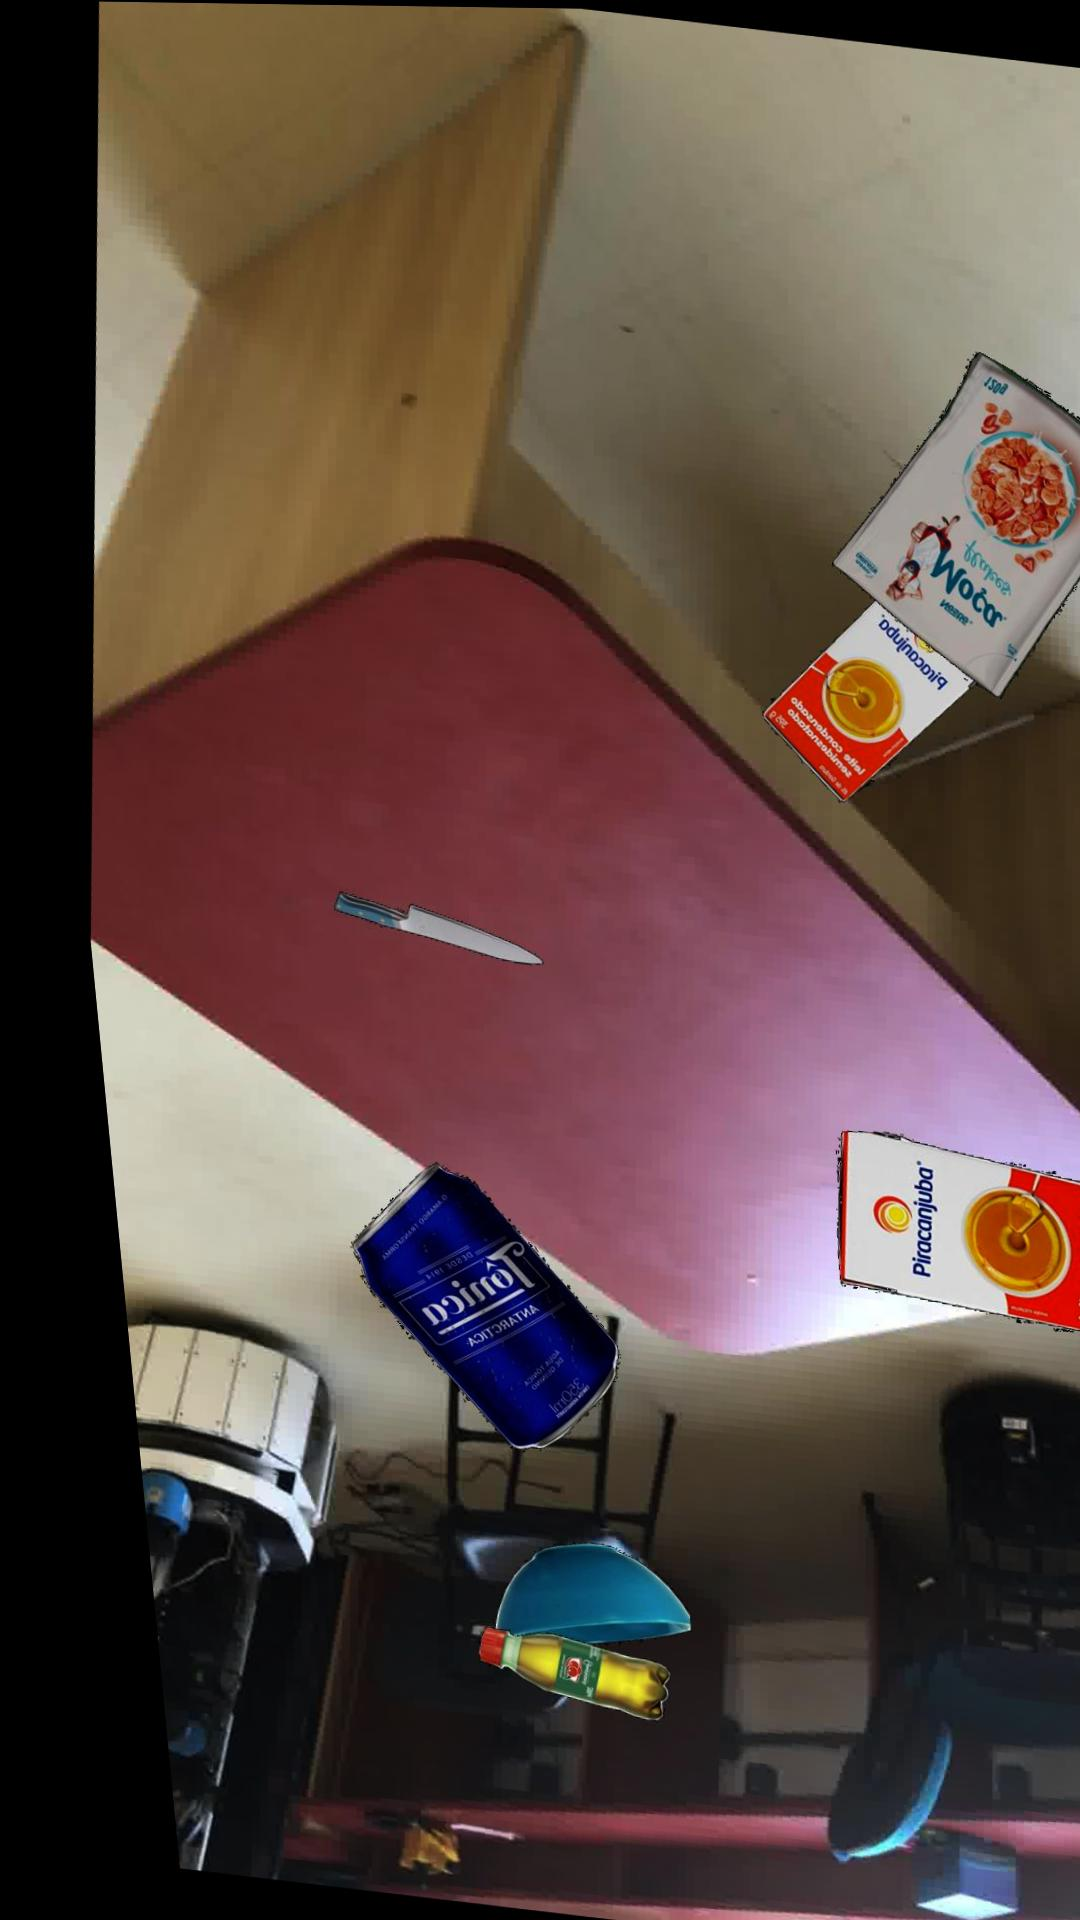bowl: (463, 1542, 659, 1644)
corn flakes: (822, 349, 1080, 696)
guarana: (446, 1626, 638, 1720)
knife: (316, 891, 525, 964)
tonic: (327, 1162, 592, 1449)
